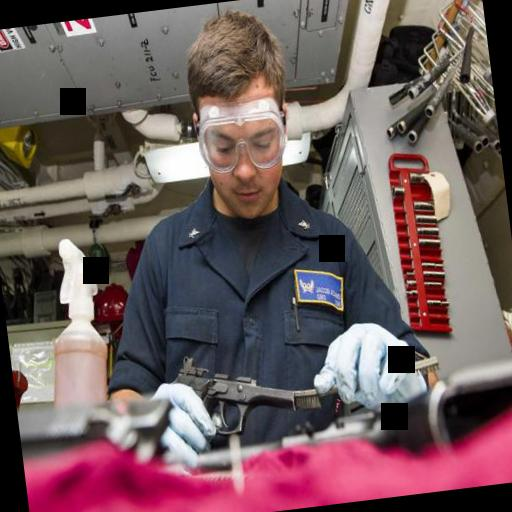Handgun: (164, 338, 302, 450)
